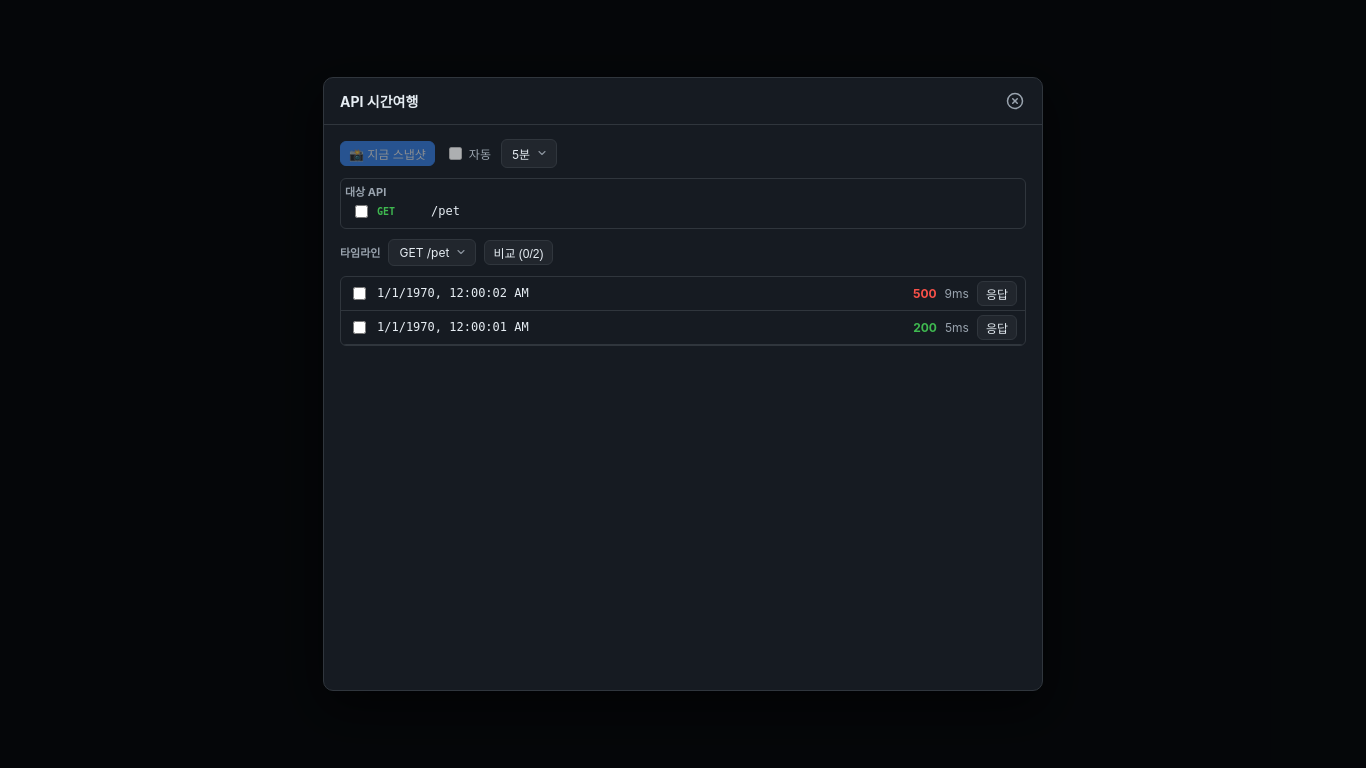
TimeTravelModal 추가 동작 › 자동 캡처 체크박스를 토글하면 안내가 나타난다
This screenshot has width=1366, height=768.
Click the checkbox labelled "자동" at (455, 153), box [449, 147, 462, 160]
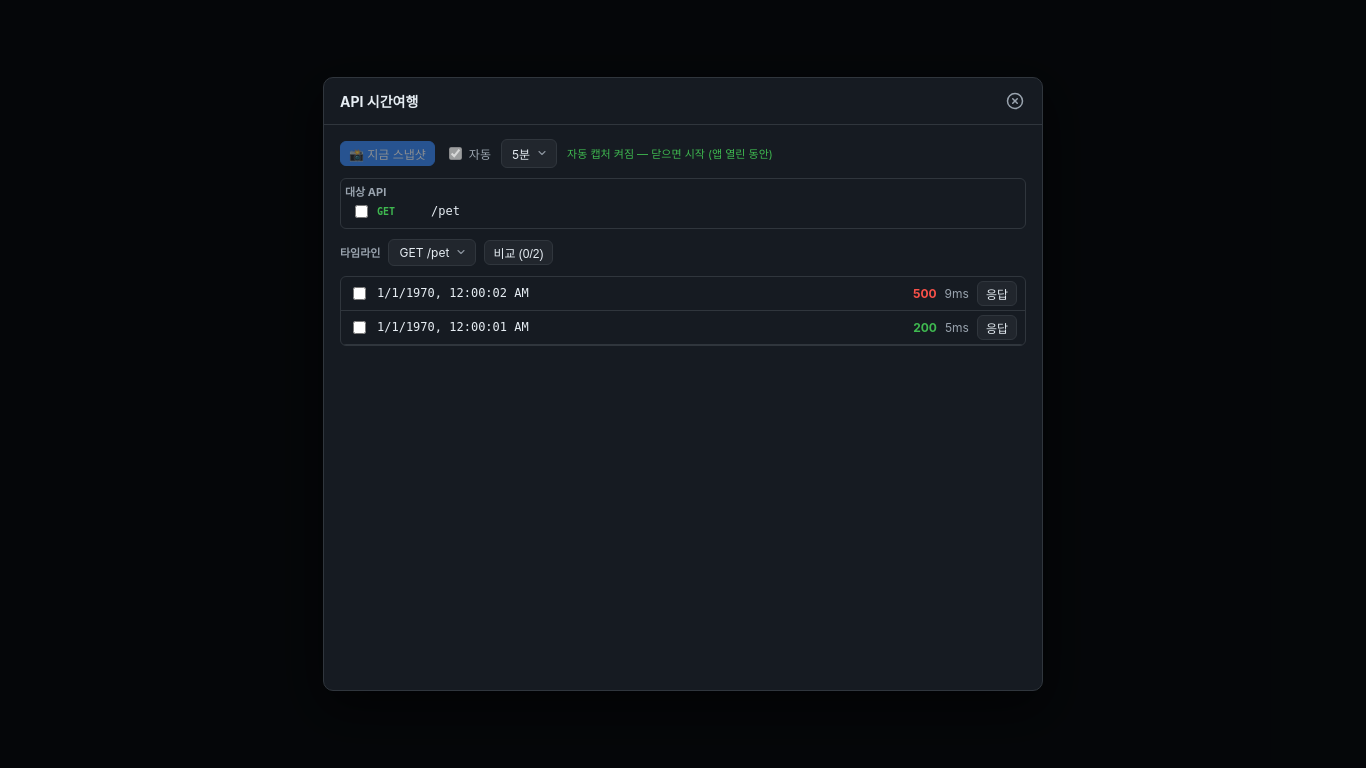
Check: the text "자동 캡처 켜짐 — 닫으면 시작 (앱 열린 동안)" is shown, box [567, 145, 773, 161]
